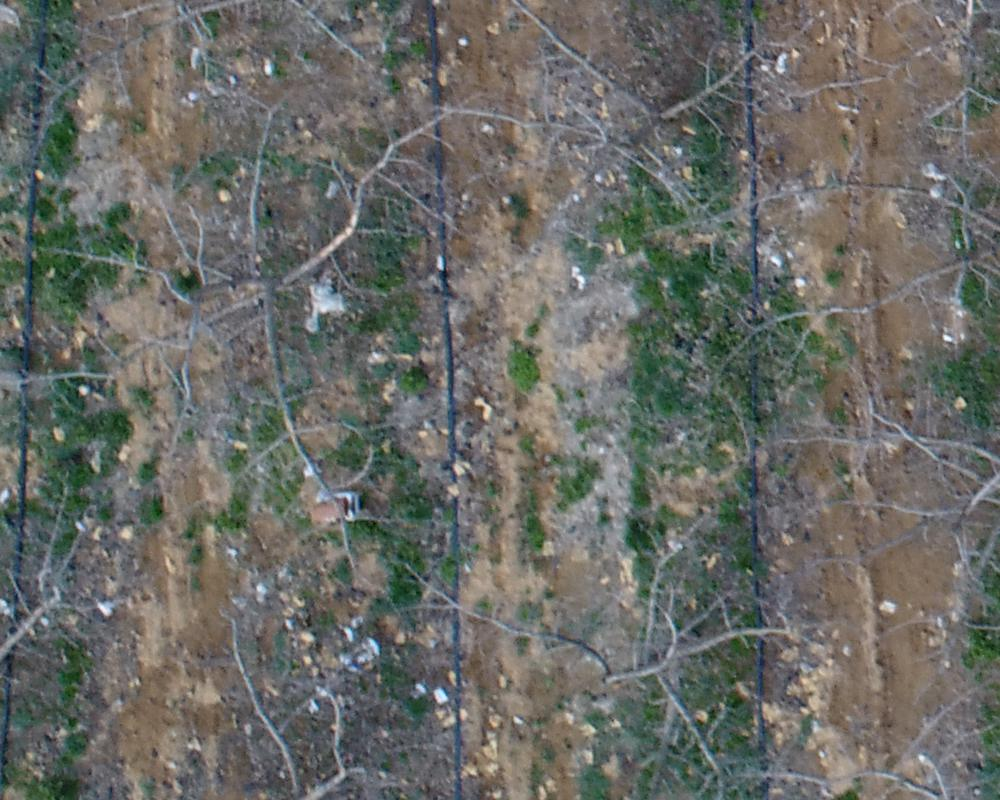apple: (31, 92, 517, 554), (405, 517, 834, 790), (402, 10, 799, 267), (722, 338, 990, 653), (738, 103, 990, 403), (161, 614, 457, 790), (37, 10, 391, 118)
